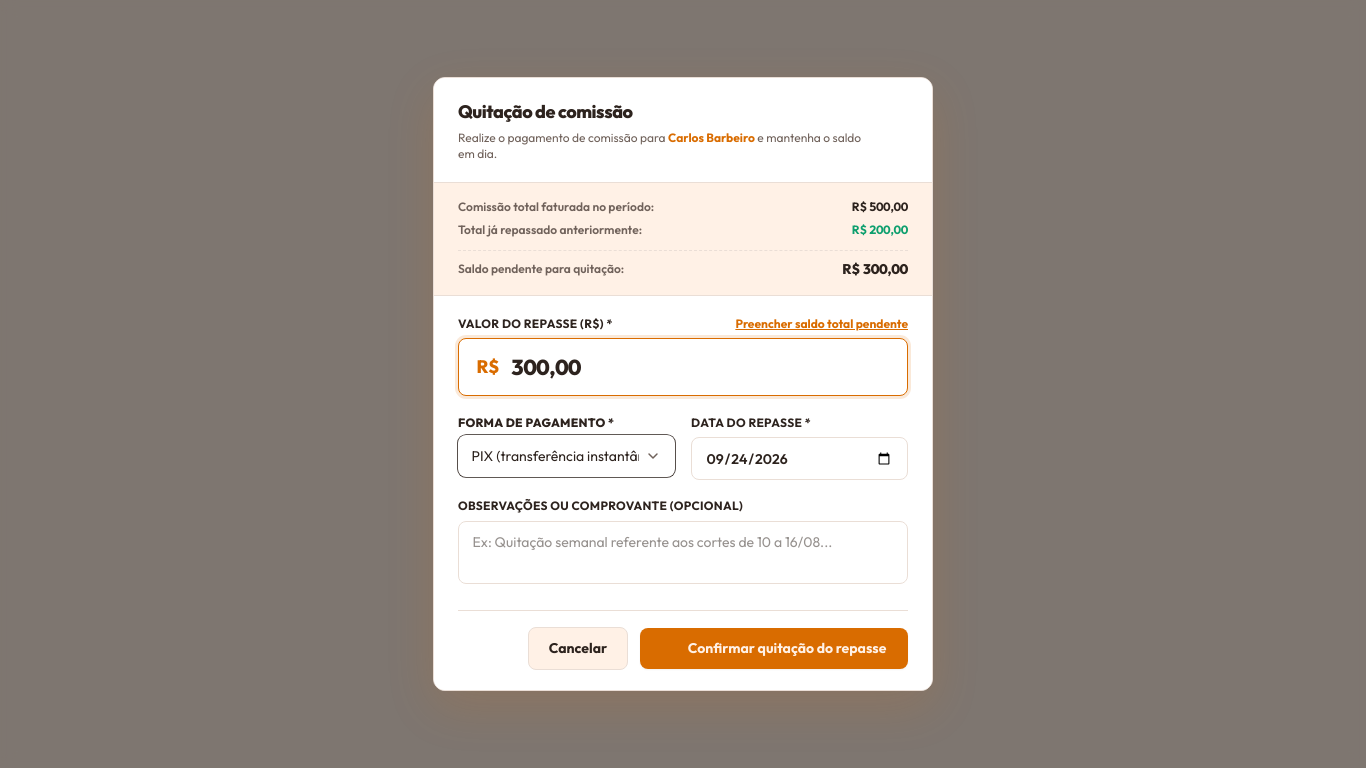
Test: QuitacaoComissaoModal › bloqueia quitação em dinheiro quando não há caixa aberto no turno
This screenshot has width=1366, height=768.
Select "Dinheiro em espécie (retirado da gaveta) — abra o caixa do turno" in the dropdown labelled "Forma de pagamento *" at [566, 456], box 458,435 -> 675,477
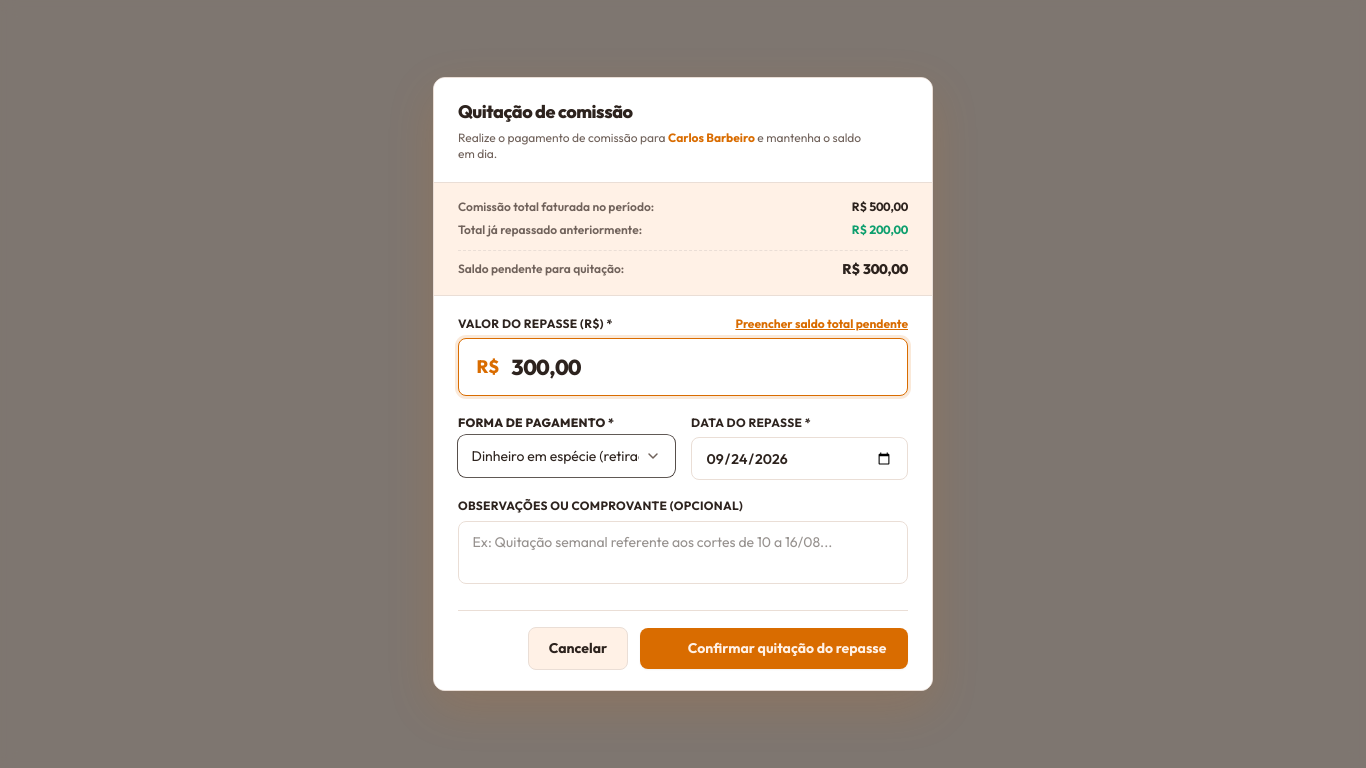
Click the button "Confirmar quitação do repasse".
click(774, 648)  # box 640,628 -> 908,669
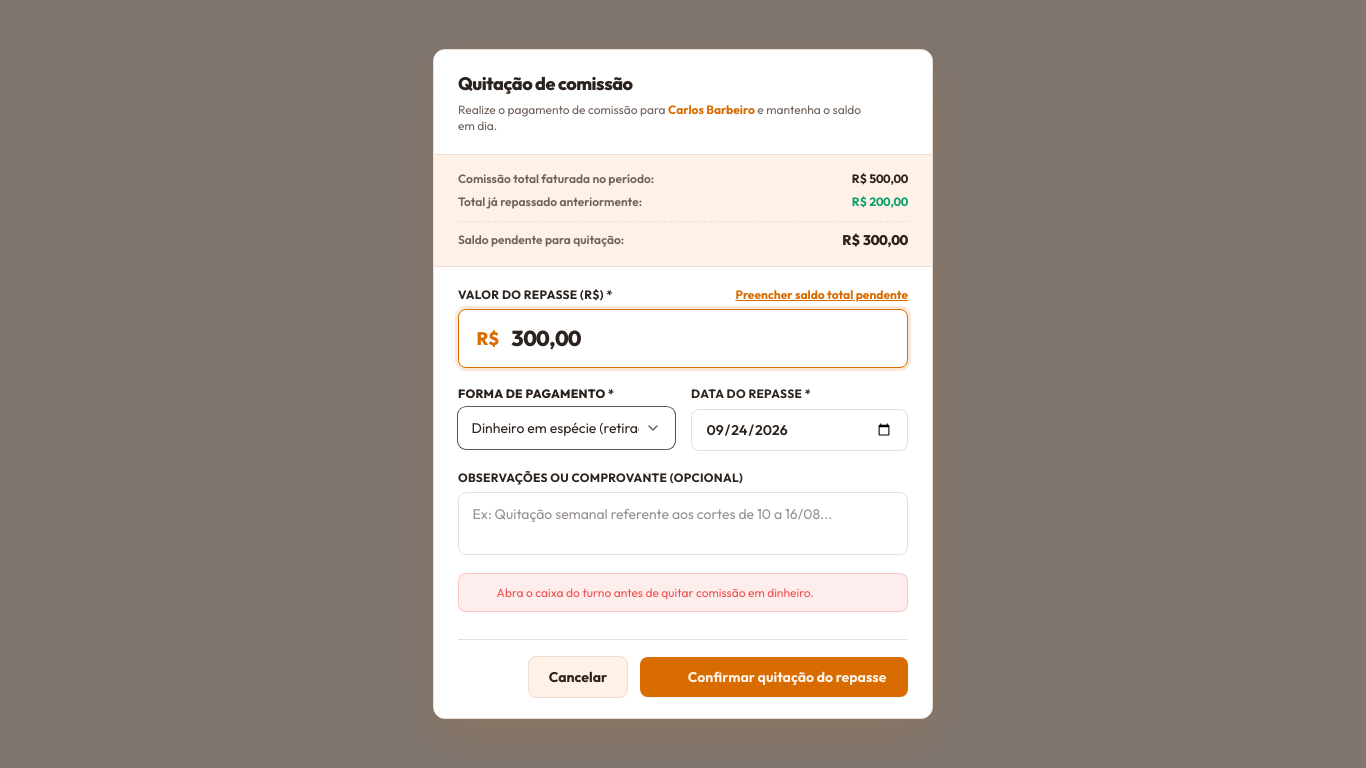
Check: the text "Abra o caixa do turno antes de quitar comissão em dinheiro." is shown, box 497,585 -> 814,601
